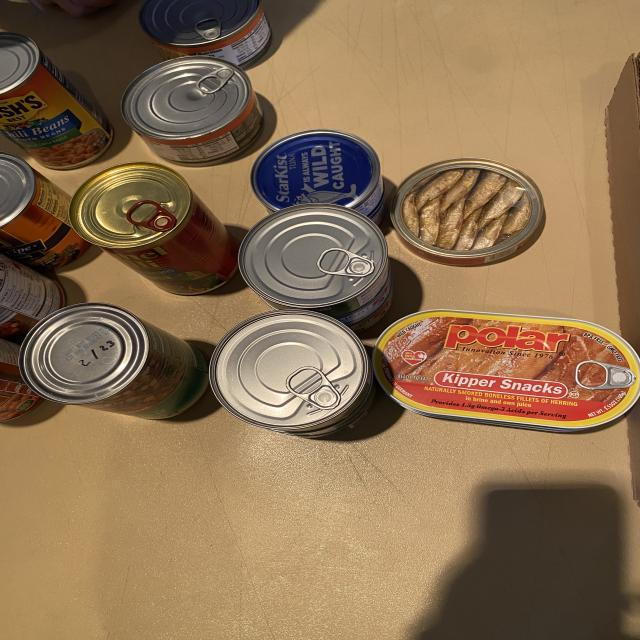Canned Fish: (373, 310, 640, 431), (210, 310, 370, 432), (238, 204, 388, 316), (392, 159, 543, 265), (122, 56, 263, 166), (250, 130, 385, 222), (140, 0, 272, 69), (278, 380, 377, 438), (337, 275, 392, 325), (348, 285, 393, 332)
Canned Food: (70, 162, 238, 295), (18, 302, 208, 419), (0, 32, 113, 170), (0, 152, 90, 270), (0, 255, 65, 341), (0, 339, 43, 422)
